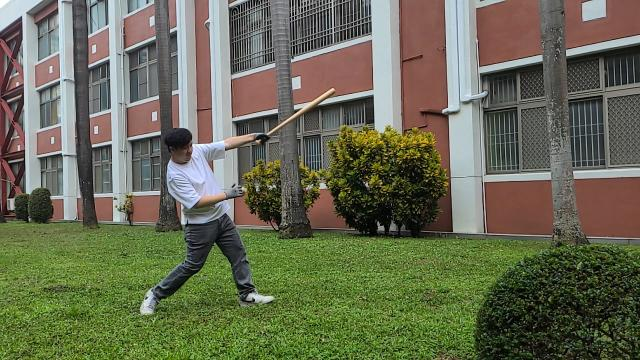bat: (266, 86, 338, 136)
